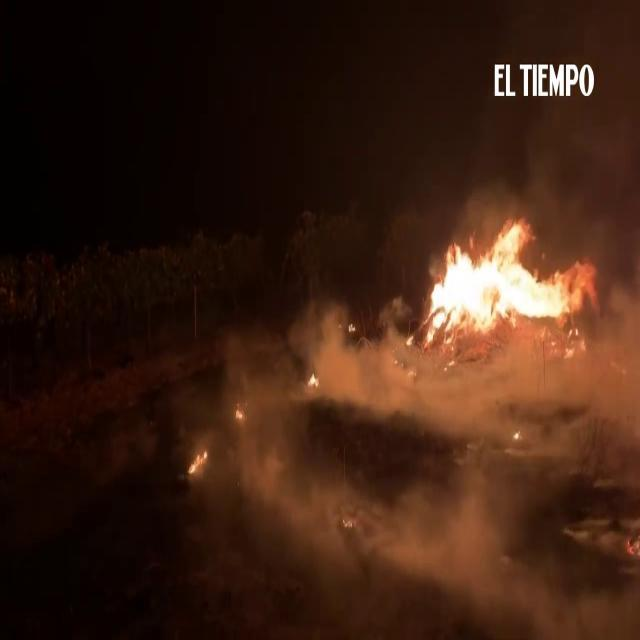Fire: (417, 212, 592, 358), (186, 450, 207, 473), (234, 400, 246, 420), (308, 372, 320, 386), (348, 318, 357, 334), (405, 332, 413, 347)
Smoke: (228, 128, 638, 622)
